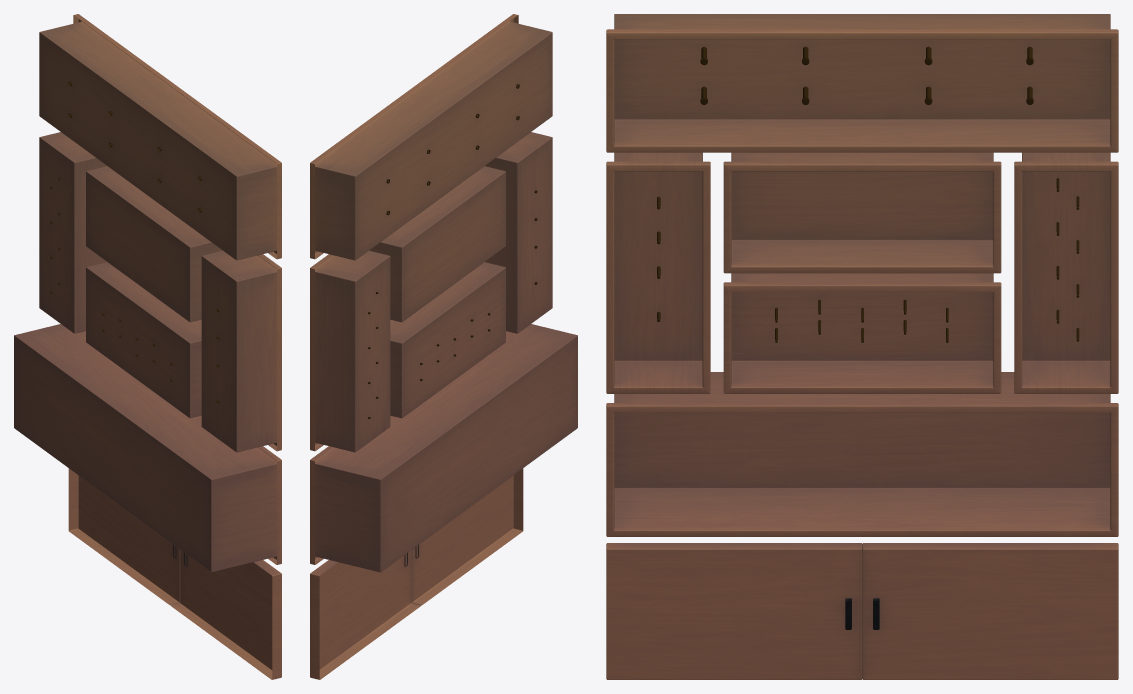
The model's file is CommunityRoomA_WallShelves.fbx.
3 views of the same model, side by side, from view 1: azimuth 30°, elevation 25°; view 2: azimuth 150°, elevation 25°; view 3: azimuth 270°, elevation 25° (orthographic). The views are drawn at different scales.
Visible parts, largest first — view 1: CommunityRoomA_WallShelves; view 2: CommunityRoomA_WallShelves; view 3: CommunityRoomA_WallShelves.
Part boxes in pixels (x1,y1,x2,y2): CommunityRoomA_WallShelves: (14,14,281,679); CommunityRoomA_WallShelves: (310,14,577,679); CommunityRoomA_WallShelves: (606,14,1118,679).
Size of the model in its own units: 40.09 by 276 by 198.
